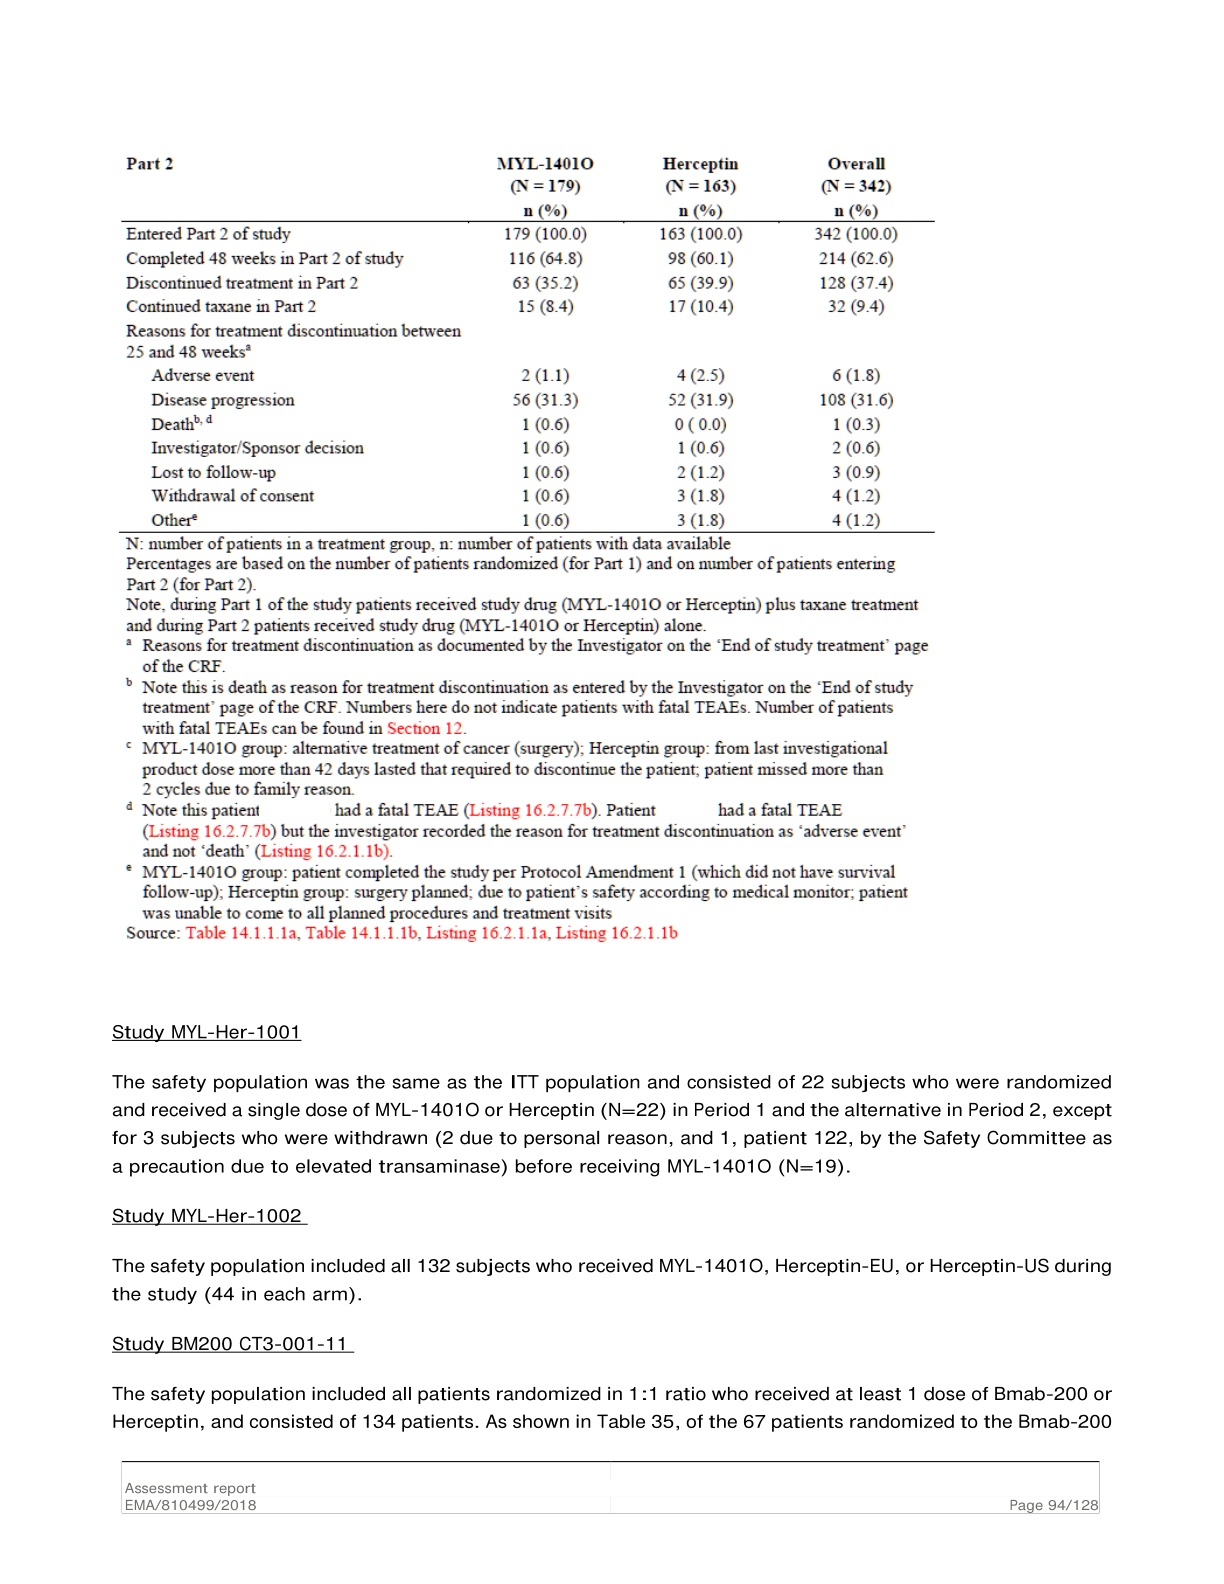partial_lined_merged_cells: (118, 150, 937, 534)
